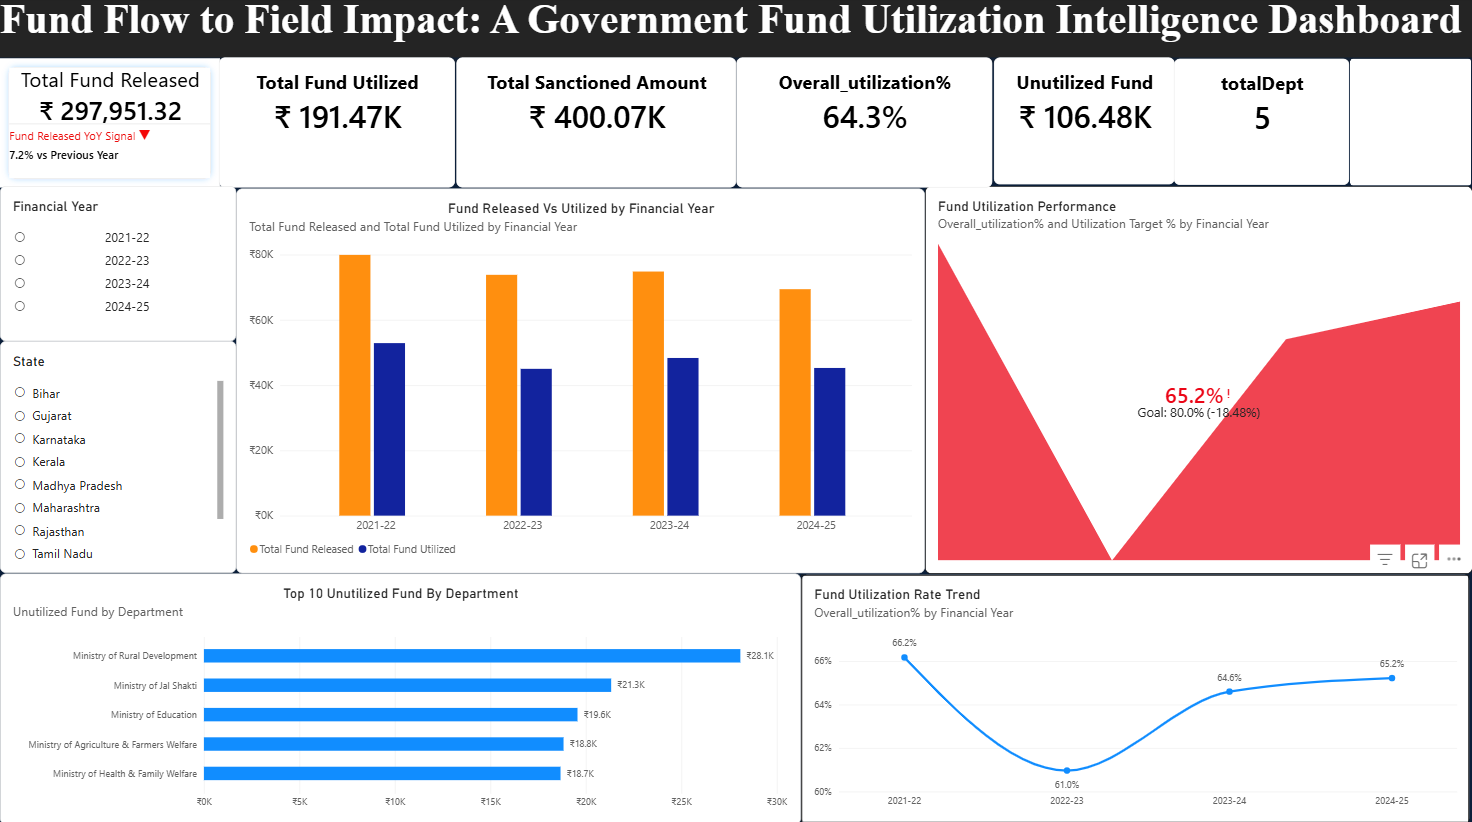

Layout of this report page (visuals, bound fields, positions):
{"tool":"powerbi","page":{"name":"Executive Overview","canvas":[1920,1080],"ordinal":0},"visuals":[{"type":"textbox","box":[0,0,1920,80.1],"z":0},{"type":"cardVisual","title":"Total Fund Released","fields":{"Data":["fund_utilization_clean.Total Fund Released"]},"box":[0,81.7,286.7,168.3],"z":1000},{"type":"kpi","title":"Fund Utilization Performance","fields":{"Goal":["fund_utilization_clean.Utilization Target %"],"Indicator":["Calendar.Overall_utilization%"],"TrendLine":["Calendar.Financial Year"]},"box":[1205.8,247.2,714.9,505.2],"z":2000},{"type":"cardVisual","fields":{"Data":["fund_utilization_clean.Total Fund Utilized"]},"box":[285.7,80.2,308.3,170.4],"z":3000},{"type":"cardVisual","fields":{"Data":["fund_utilization_clean.Total Sanctioned Amount"]},"box":[594.6,80.5,365.4,170.3],"z":4000},{"type":"cardVisual","fields":{"Data":["Calendar.Overall_utilization%"]},"box":[960,80.5,334.5,170.3],"z":5000},{"type":"cardVisual","fields":{"Data":["fund_utilization_clean.Unutilized Fund"]},"box":[1295.4,80.6,236.5,166.6],"z":6000},{"type":"cardVisual","fields":{"Data":["fund_utilization_clean.totalDept"]},"box":[1530.8,80.8,229.3,166],"z":7000},{"type":"clusteredColumnChart","title":"Fund Released Vs Utilized by Financial Year","fields":{"Category":["Calendar.Financial Year"],"Y":["fund_utilization_clean.Total Fund Released","fund_utilization_clean.Total Fund Utilized"]},"box":[308.2,250.8,897.6,501.7],"z":8000},{"type":"clusteredBarChart","title":"Top 10 Unutilized Fund By Department","fields":{"Category":["fund_utilization_clean.Department"],"Y":["fund_utilization_clean.Unutilized Fund"]},"box":[0,753.4,1043.9,327.6],"z":9000},{"type":"listSlicer","fields":{"Values":["Calendar.Financial Year"]},"box":[0,247.2,308.2,202.5],"z":10000},{"type":"listSlicer","fields":{"Values":["fund_utilization_clean.State"]},"box":[0,449.7,308.2,302.8],"z":11000},{"type":"lineChart","title":"Fund Utilization Rate Trend","fields":{"Category":["Calendar.Financial Year"],"Y":["fund_utilization_clean.Overall_utilization%"]},"box":[1044.8,754.2,872,324.7],"z":12000},{"type":"actionButton","box":[1760.1,80.8,159.4,166],"z":13000}]}

Visuals, with their boxes in screenshot pixels (x1, y1, x2, y2), scaled from the page's 1920x1080 canvas onto the 1472x822 screenshot:
textbox: x1=0, y1=0, x2=1471, y2=61
"Total Fund Released" cardVisual: x1=0, y1=62, x2=220, y2=190
"Fund Utilization Performance" kpi: x1=924, y1=188, x2=1471, y2=573
cardVisual - fund_utilization_clean.Total Fund Utilized: x1=219, y1=61, x2=455, y2=191
cardVisual - fund_utilization_clean.Total Sanctioned Amount: x1=456, y1=61, x2=736, y2=191
cardVisual - Calendar.Overall_utilization%: x1=736, y1=61, x2=992, y2=191
cardVisual - fund_utilization_clean.Unutilized Fund: x1=993, y1=61, x2=1174, y2=188
cardVisual - fund_utilization_clean.totalDept: x1=1174, y1=61, x2=1349, y2=188
"Fund Released Vs Utilized by Financial Year" clusteredColumnChart: x1=236, y1=191, x2=924, y2=573
"Top 10 Unutilized Fund By Department" clusteredBarChart: x1=0, y1=573, x2=800, y2=821
listSlicer - Calendar.Financial Year: x1=0, y1=188, x2=236, y2=342
listSlicer - fund_utilization_clean.State: x1=0, y1=342, x2=236, y2=573
"Fund Utilization Rate Trend" lineChart: x1=801, y1=574, x2=1470, y2=821
actionButton: x1=1349, y1=61, x2=1471, y2=188
